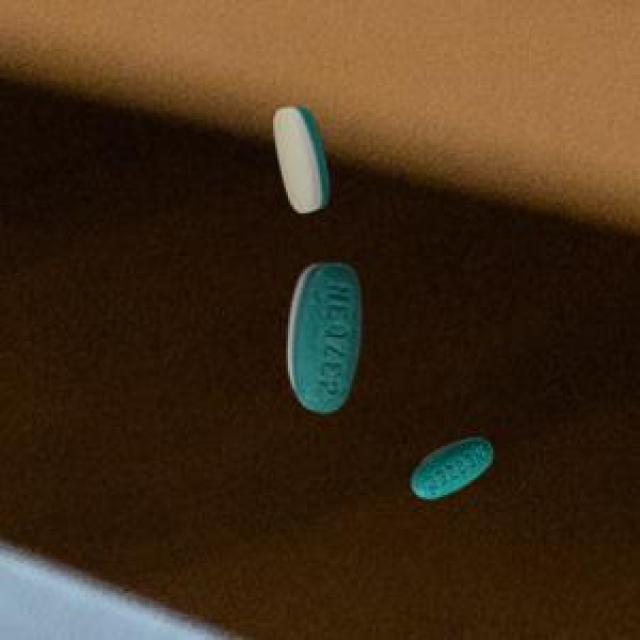Neozep: (277, 251, 371, 426), (260, 92, 345, 228), (401, 427, 500, 510)
